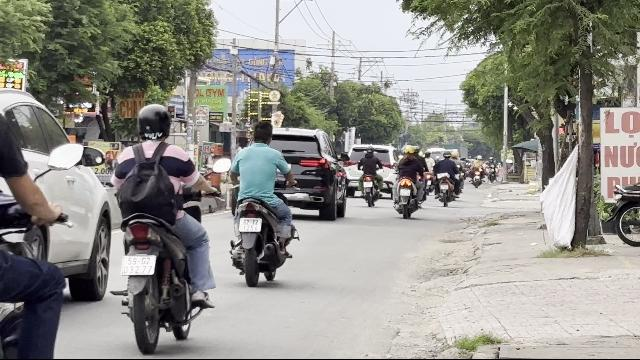helmet: (134, 103, 172, 141)
licenseplate: (122, 255, 156, 275), (238, 218, 262, 232)
motorcyclist: (109, 98, 218, 350), (225, 118, 299, 284)
nohelmet: (250, 120, 274, 144)
